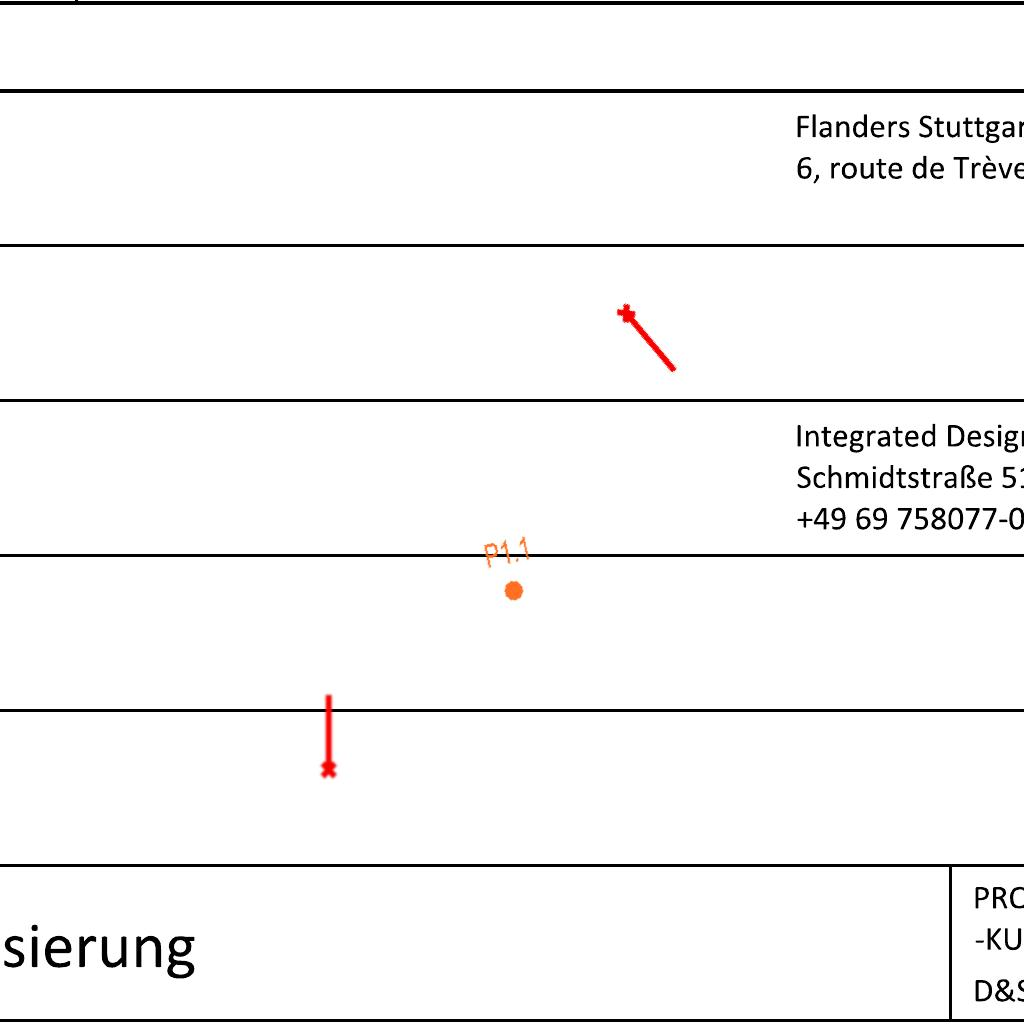ASR_Ansaugoeffnung: (611, 297, 687, 380), (316, 692, 339, 780)
Downlight_LED_Einbauleuchten_Flur: (481, 533, 541, 607)
